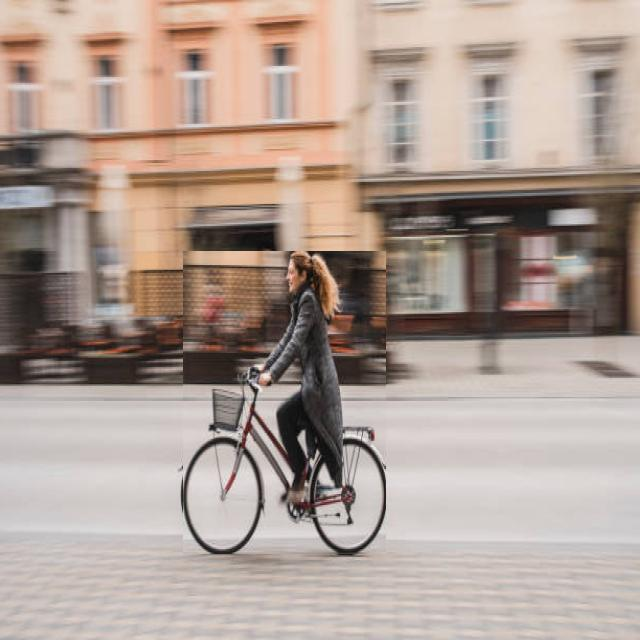bicycle: (183, 251, 385, 554)
